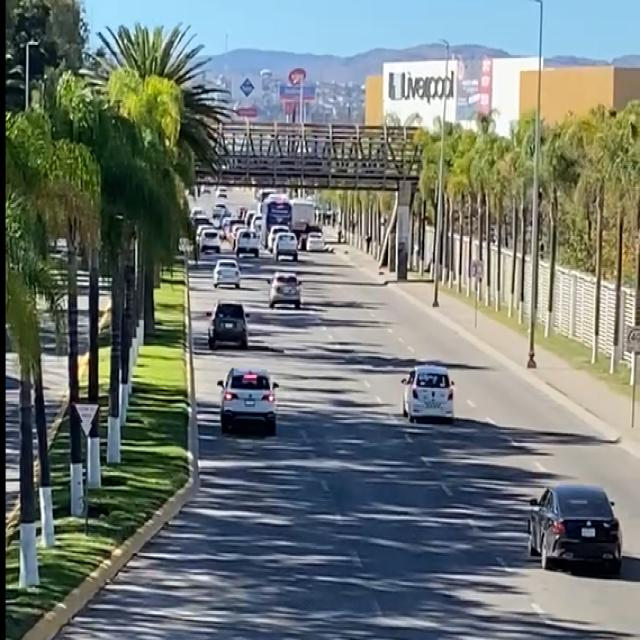Auto: (530, 486, 624, 572), (219, 367, 278, 436), (400, 367, 458, 423), (209, 300, 251, 350), (269, 273, 305, 309), (215, 262, 242, 288)
